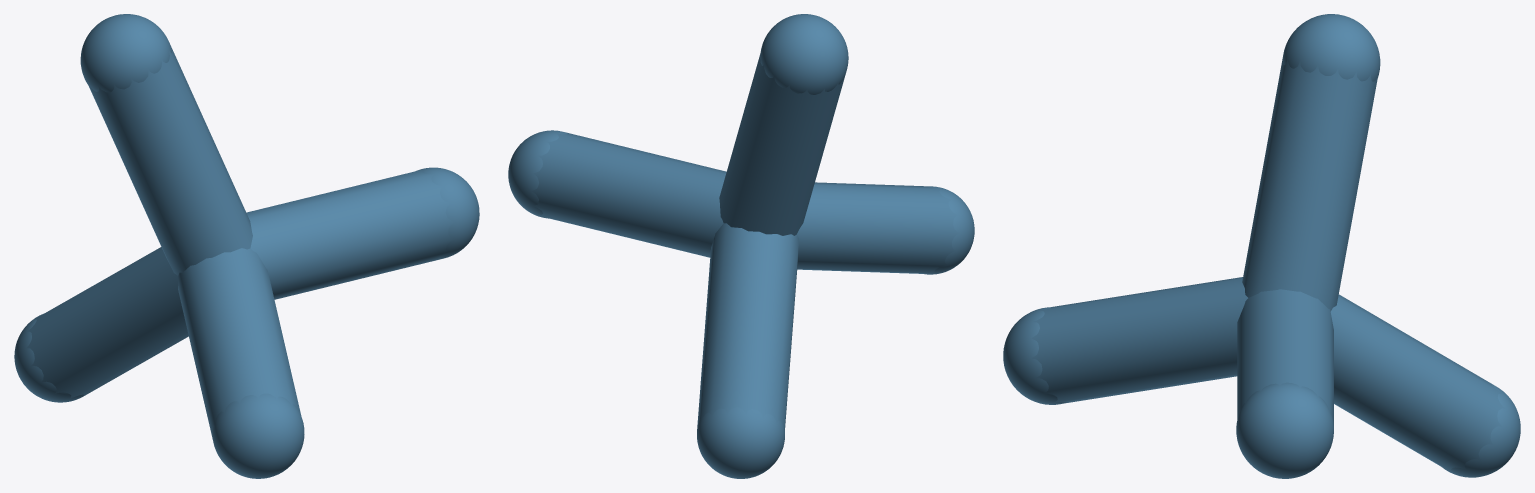
File: Metano-sticks-vis_NIH3D.glb
The picture shows the model from 3 angles, left to right: view 1: azimuth 30°, elevation 25°; view 2: azimuth 150°, elevation 25°; view 3: azimuth 270°, elevation 25°; orthographic projection. The views are drawn at different scales.
Parts seen in each view (by area): view 1: bonds, atoms; view 2: bonds, atoms; view 3: bonds, atoms.
Boxes of the visible parts, x1,y1,x2,y2 form: bonds: (26,45,455,439); atoms: (14,14,479,478); bonds: (530,52,959,432); atoms: (508,14,974,478); bonds: (1030,55,1505,472); atoms: (1003,14,1520,478).
Size of the model in its own units: 1.83 by 2.05 by 2.12.
